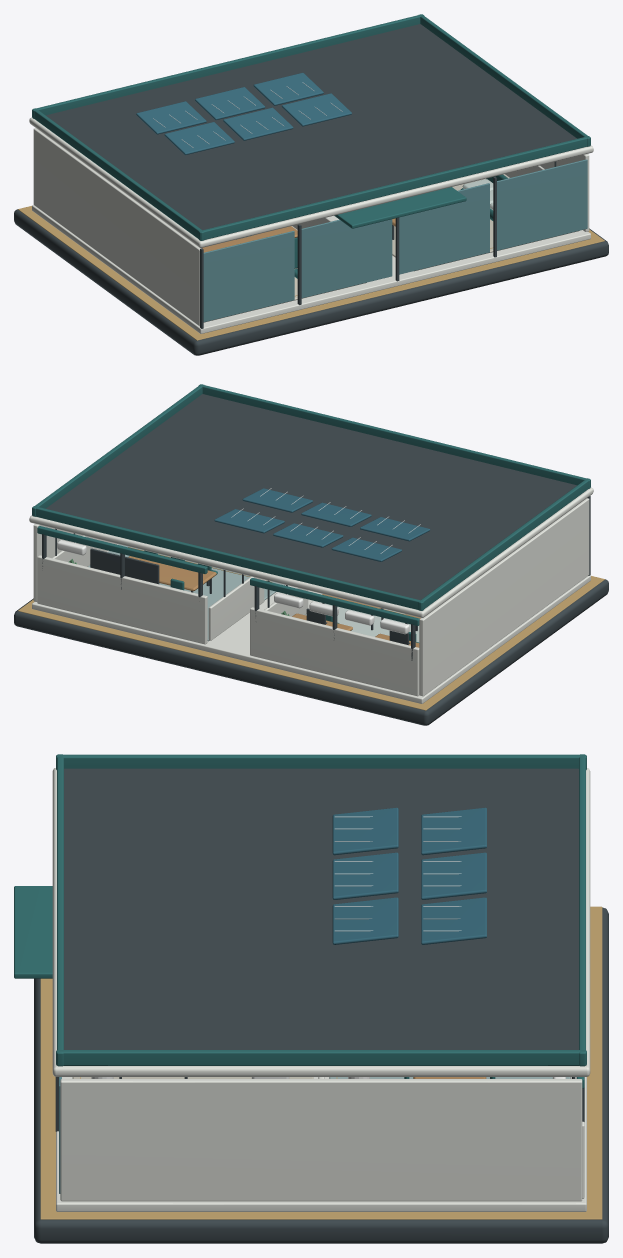
Rendered from KWH-Empresarial.glb.
The picture shows the model from 3 angles, top to bottom: view 1: azimuth 30°, elevation 25°; view 2: azimuth 150°, elevation 25°; view 3: azimuth 270°, elevation 25°; orthographic projection. The views are drawn at different scales.
Visible parts, largest first — view 1: Roof | graphite membrane, Facade | side wall, Foundation | floating graphite plinth, Facade | front glazing, Facade | front glazing.003, Facade | front glazing.001, floor_01_slab, Facade | front glazing.002, Roof | insulated plate, Foundation | brass reveal, Roof | parapet.002, Roof | parapet.003 (+12 smaller); view 2: Roof | graphite membrane, Facade | side wall, Foundation | floating graphite plinth, Facade | rear parapet.001, Facade | rear parapet, floor_01_slab, Roof | insulated plate, Foundation | brass reveal, Roof | parapet.003, Roof | parapet.002, Roof | parapet, Roof | parapet.001 (+14 smaller); view 3: Roof | graphite membrane, Facade | side wall.001, Foundation | floating graphite plinth, Foundation | brass reveal, Roof | insulated plate, Roof | parapet.001, Roof | parapet, floor_01_slab, Facade | entrance canopy, Roof | solar panel.002, Roof | solar panel.004, Roof | solar panel (+5 smaller).
Boxes of the visible parts, left/top/right/bottom form: Roof | graphite membrane: left=46, top=24, right=576, bottom=230; Facade | side wall: left=33, top=128, right=201, bottom=326; Foundation | floating graphite plinth: left=14, top=209, right=608, bottom=355; Facade | front glazing: left=203, top=231, right=294, bottom=322; Facade | front glazing.003: left=497, top=159, right=587, bottom=250; Facade | front glazing.001: left=301, top=219, right=392, bottom=298; floor_01_slab: left=32, top=174, right=590, bottom=333; Facade | front glazing.002: left=399, top=183, right=489, bottom=274; Roof | insulated plate: left=29, top=117, right=593, bottom=247; Foundation | brass reveal: left=18, top=206, right=604, bottom=340; Roof | parapet.002: left=198, top=136, right=590, bottom=240; Roof | parapet.003: left=32, top=14, right=424, bottom=118; Roof | graphite membrane: left=46, top=394, right=576, bottom=600; Facade | side wall: left=419, top=498, right=589, bottom=696; Foundation | floating graphite plinth: left=14, top=579, right=608, bottom=725; Facade | rear parapet.001: left=37, top=555, right=207, bottom=644; Facade | rear parapet: left=250, top=607, right=419, bottom=696; floor_01_slab: left=32, top=544, right=590, bottom=703; Roof | insulated plate: left=29, top=487, right=593, bottom=617; Foundation | brass reveal: left=18, top=576, right=604, bottom=710; Roof | parapet.003: left=32, top=506, right=424, bottom=610; Roof | parapet.002: left=198, top=384, right=590, bottom=488; Roof | parapet: left=418, top=478, right=589, bottom=610; Roof | parapet.001: left=32, top=384, right=203, bottom=516; Roof | graphite membrane: left=64, top=768, right=578, bottom=1049; Facade | side wall.001: left=60, top=1079, right=582, bottom=1201; Foundation | floating graphite plinth: left=34, top=907, right=608, bottom=1243; Foundation | brass reveal: left=40, top=906, right=602, bottom=1219; Roof | insulated plate: left=52, top=768, right=590, bottom=1076; Roof | parapet.001: left=56, top=1050, right=586, bottom=1065; Roof | parapet: left=56, top=754, right=586, bottom=769; floor_01_slab: left=56, top=1077, right=586, bottom=1211; Facade | entrance canopy: left=14, top=886, right=52, bottom=978; Roof | solar panel.002: left=332, top=852, right=398, bottom=899; Roof | solar panel.004: left=332, top=897, right=398, bottom=944; Roof | solar panel: left=332, top=807, right=398, bottom=855.
Size of the model in its own units: 17 by 4.65 by 13.45.
